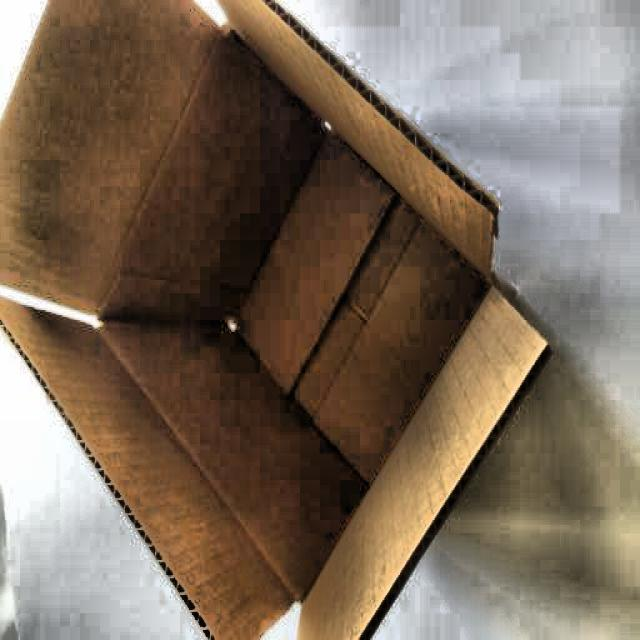cardboard: (4, 1, 554, 638)
